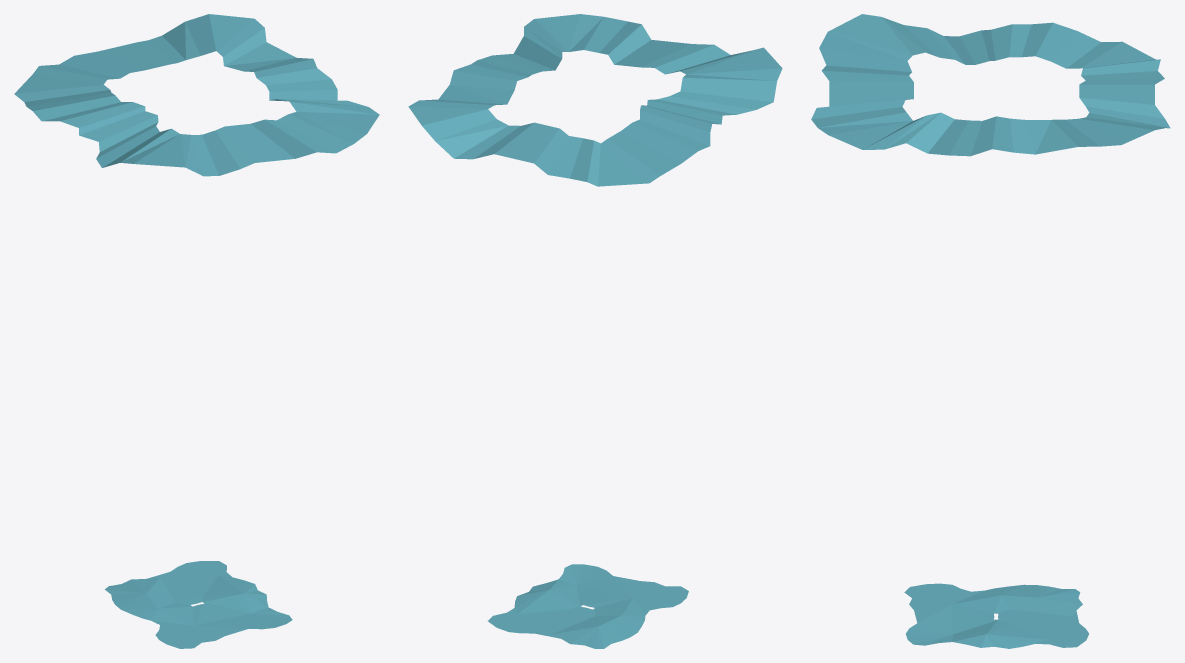
File: level_collision_snow.fbx
3 views of the same model, side by side, from view 1: azimuth 30°, elevation 25°; view 2: azimuth 150°, elevation 25°; view 3: azimuth 270°, elevation 25° (orthographic). The views are drawn at different scales.
Parts seen in each view (by area): view 1: level_collision_snow; view 2: level_collision_snow; view 3: level_collision_snow.
Part boxes in pixels (x1,y1,x2,y2): level_collision_snow: [14, 14, 379, 648]; level_collision_snow: [408, 14, 782, 648]; level_collision_snow: [811, 14, 1170, 648].
Bounding box in the file's own units: 2230150 × 4192493 × 2533591.
